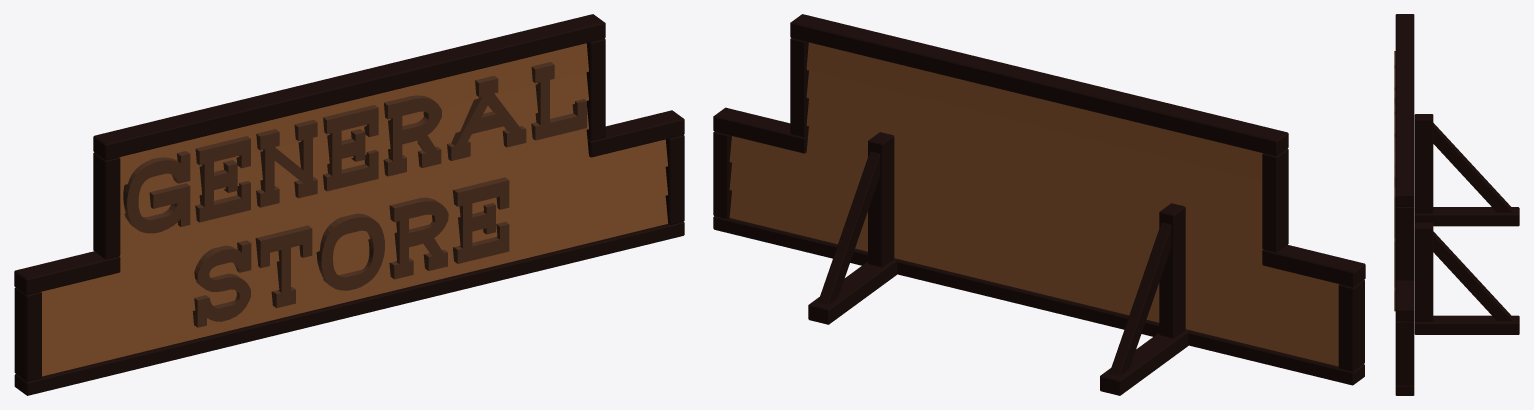
File: ww_general_sign_b.glb
3 views of the same model, side by side, from view 1: azimuth 30°, elevation 25°; view 2: azimuth 150°, elevation 25°; view 3: azimuth 270°, elevation 25° (orthographic). The views are drawn at different scales.
Visible parts, largest first — view 1: General_Sign_C; view 2: General_Sign_C; view 3: General_Sign_C.
Boxes of the visible parts, box(x1,y1,x2,y2) form: General_Sign_C: box(14, 14, 684, 395); General_Sign_C: box(713, 14, 1365, 395); General_Sign_C: box(1394, 14, 1519, 395).
Bounding box in the file's own units: 10.56 × 3.56 × 2.34.
